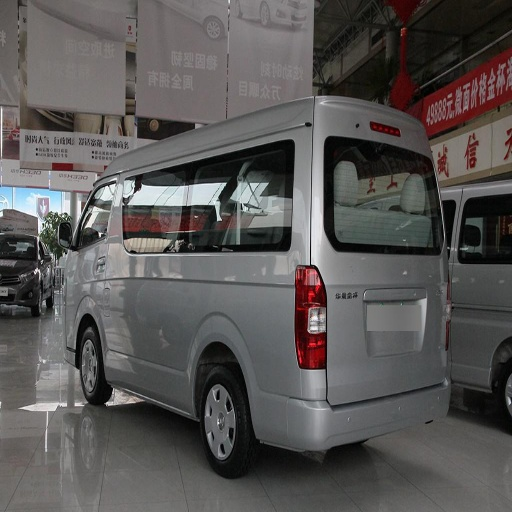back_bumper: (258, 382, 444, 451)
trunk: (70, 250, 447, 425)
